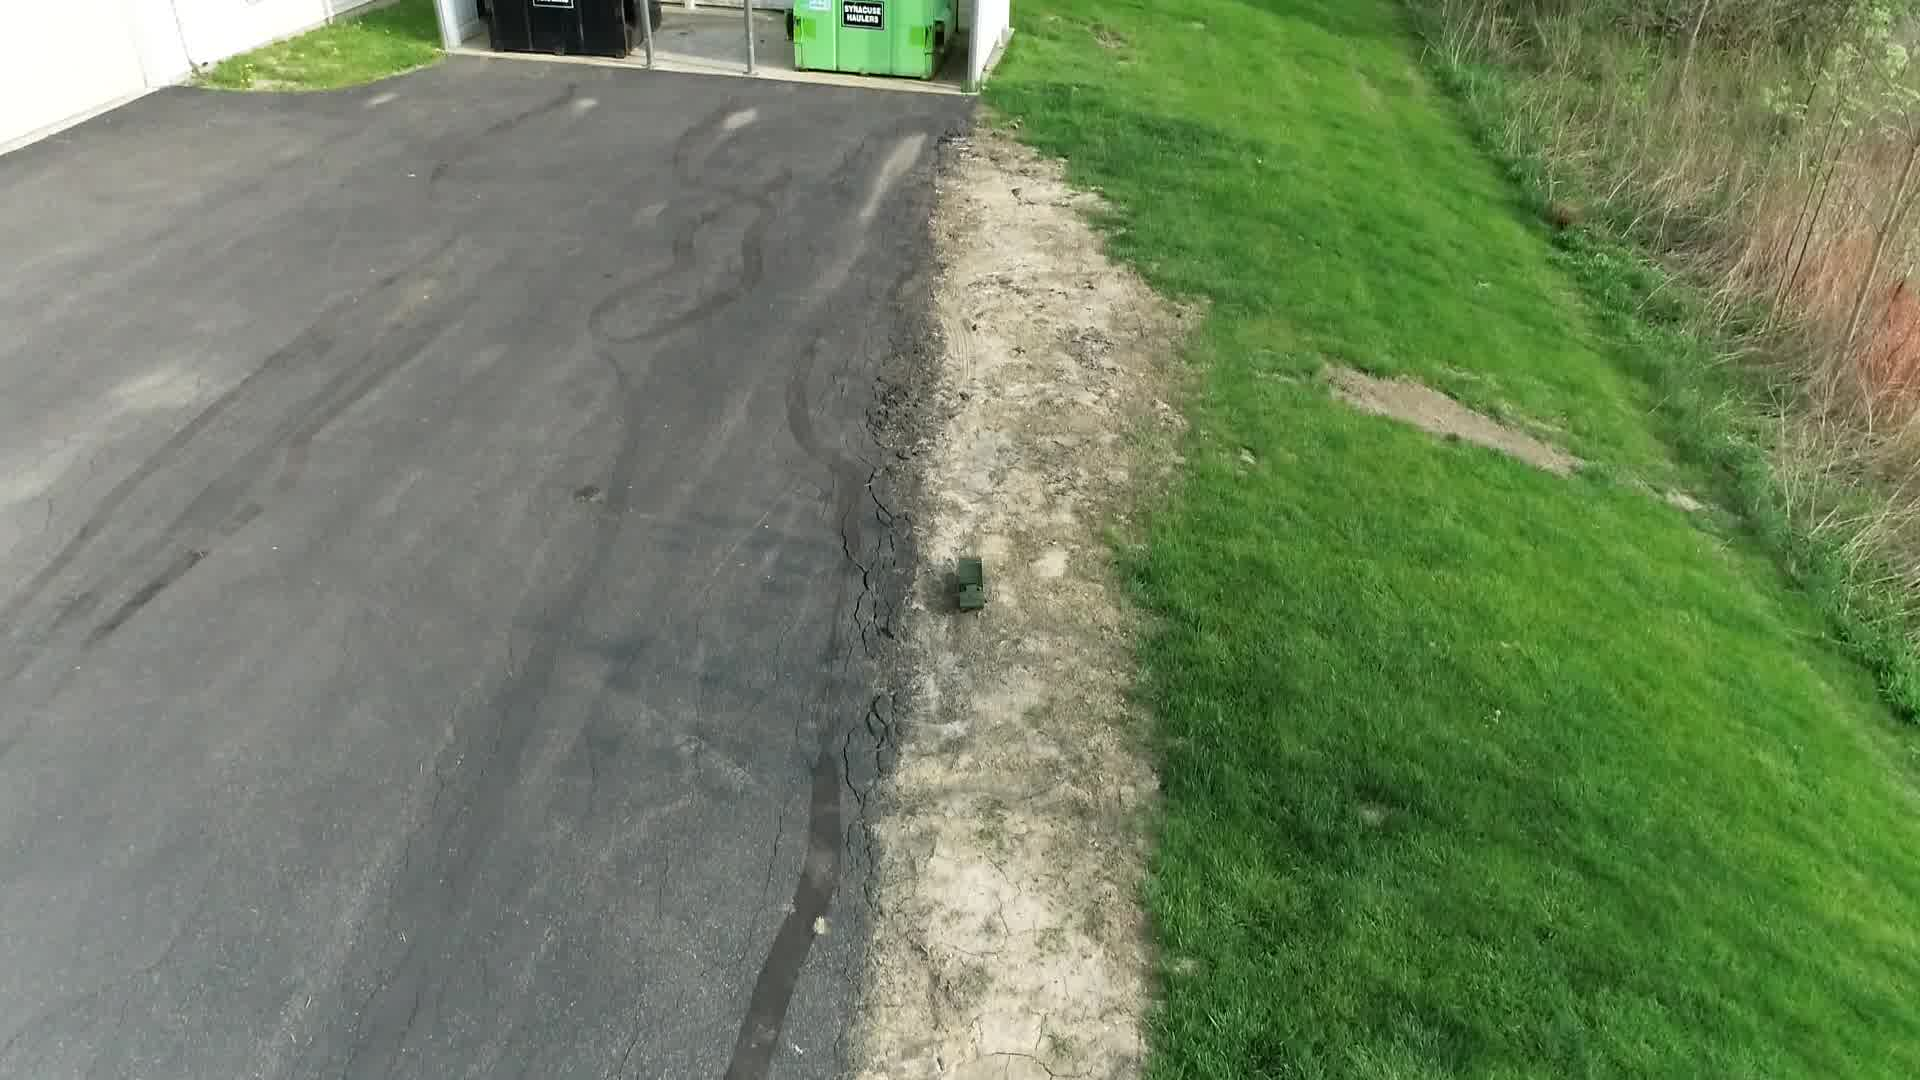transporter9: (953, 554, 992, 615)
